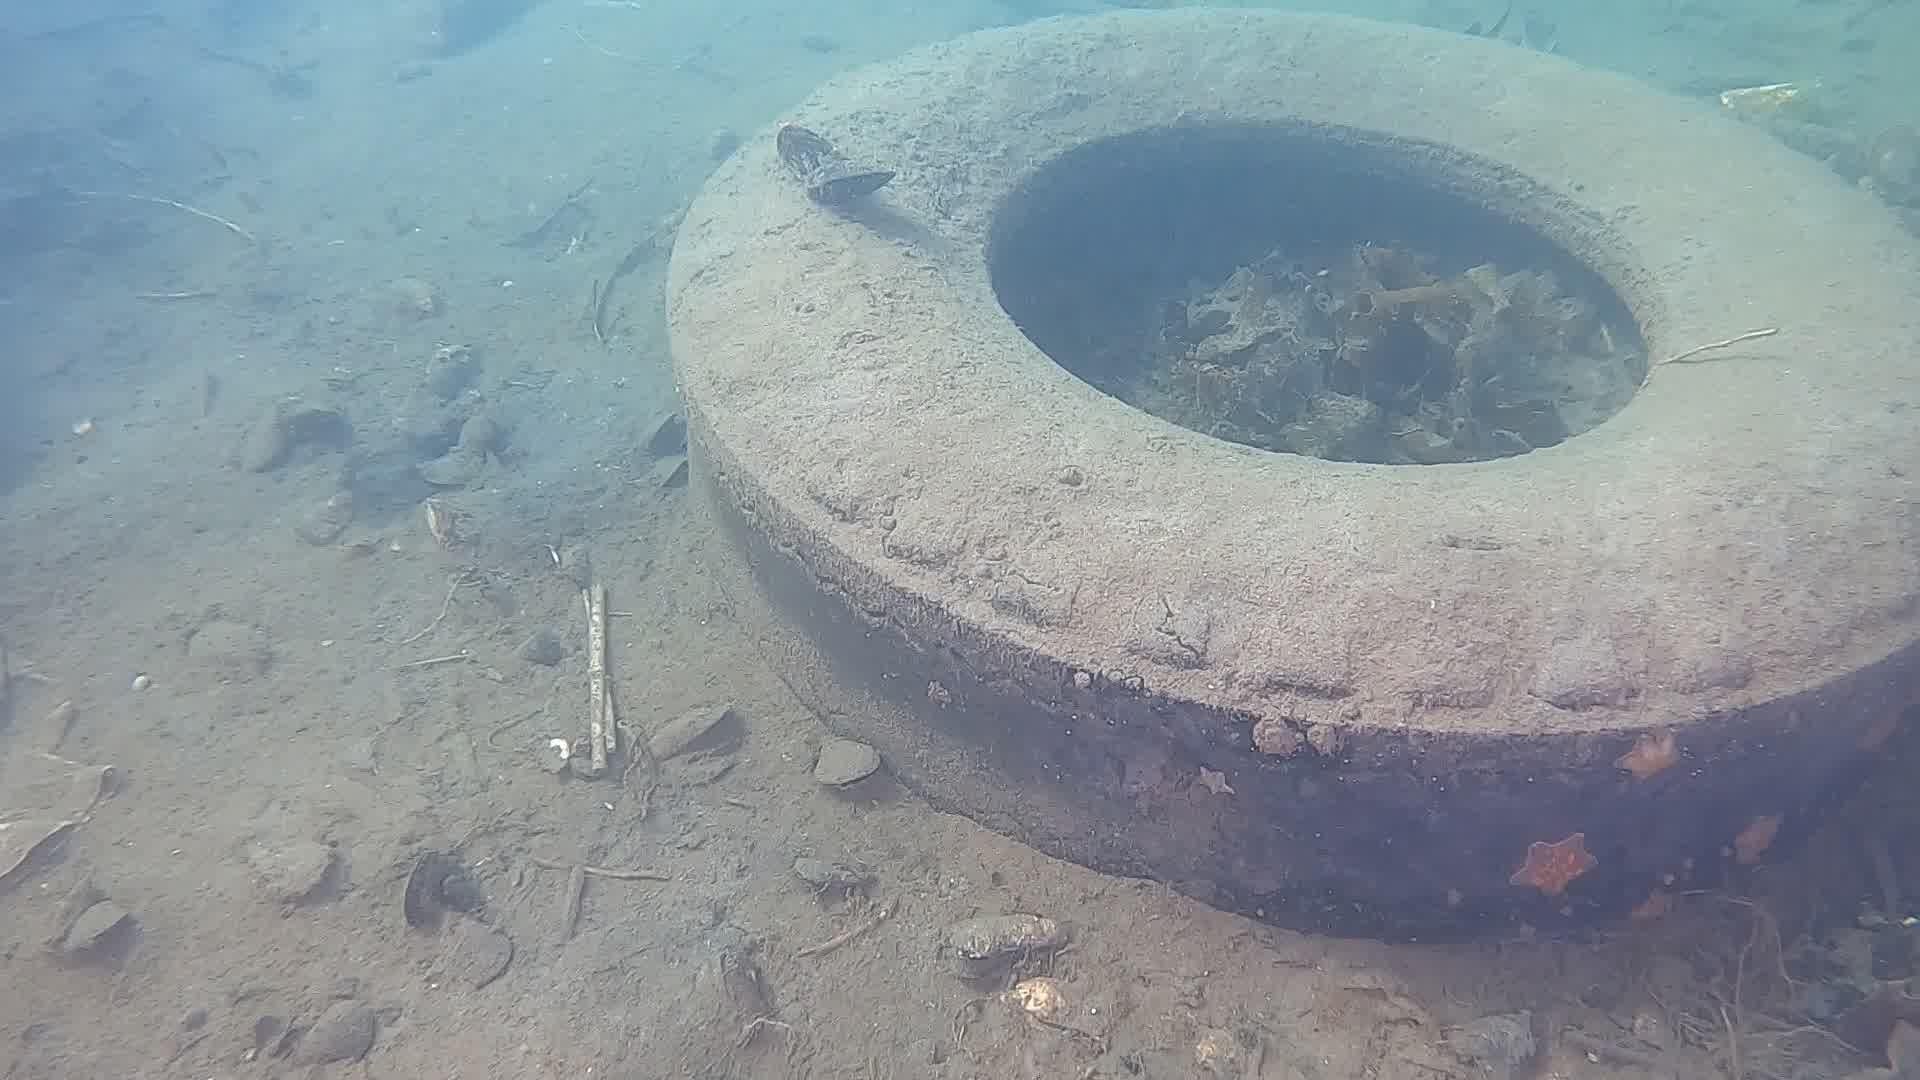tire: (657, 0, 1920, 945)
